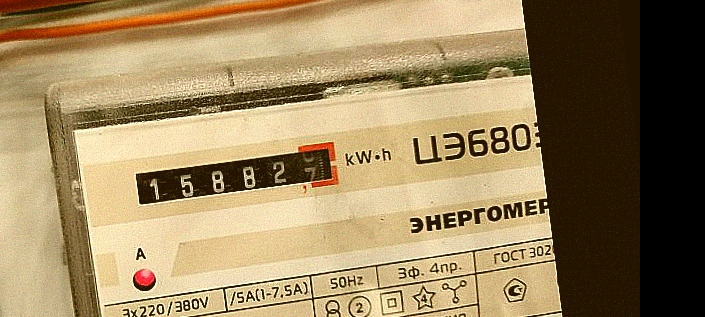1: (146, 174, 161, 201)
2: (269, 158, 288, 184)
5: (177, 171, 194, 198)
7: (301, 163, 318, 181)
8: (208, 167, 227, 193), (239, 163, 258, 189)
screen: (123, 134, 348, 219)
